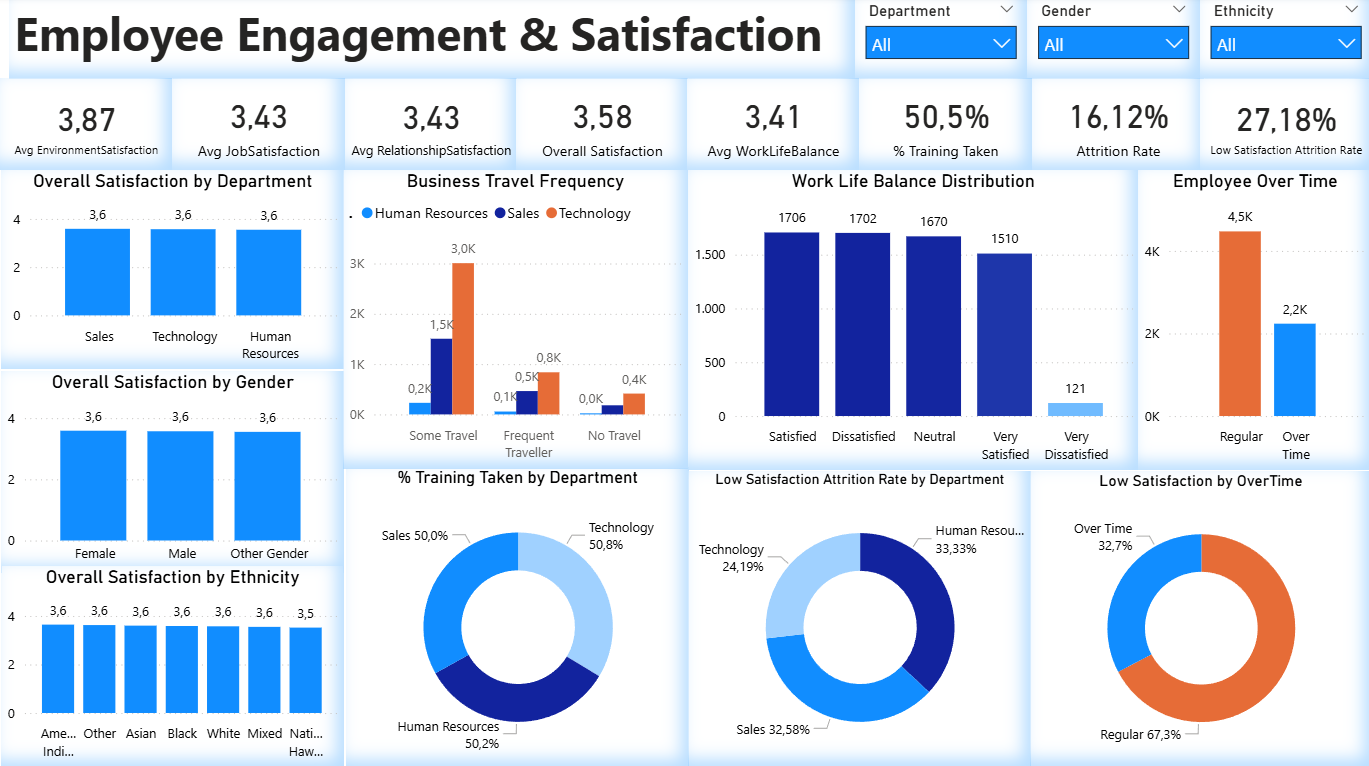

What the dashboard file says about the page in this screenshot:
{"tool":"powerbi","page":{"name":"Page 1","canvas":[1280,720],"ordinal":0},"visuals":[{"type":"textbox","box":[9.1,0,788.9,77.2],"z":0},{"type":"card","fields":{"Values":["Avg(PerformanceRating.EnvironmentSatisfaction)"]},"box":[0,77.5,160.6,85],"z":1000},{"type":"card","fields":{"Values":["Avg(PerformanceRating.JobSatisfaction)"]},"box":[160.6,77.5,160.6,85],"z":2000},{"type":"card","fields":{"Values":["Avg(PerformanceRating.RelationshipSatisfaction)"]},"box":[321.3,77.5,160.6,85],"z":3000},{"type":"card","fields":{"Values":["PerformanceRating.Overall Satisfaction"]},"box":[481.9,77.5,160.6,85],"z":4000},{"type":"slicer","fields":{"Values":["Employee.Department"]},"box":[798,0,160.5,77.2],"z":5000},{"type":"slicer","fields":{"Values":["Employee.Gender"]},"box":[958.5,0,160.5,77.2],"z":6000},{"type":"slicer","fields":{"Values":["Employee.Ethnicity"]},"box":[1119,0,160.5,77.2],"z":7000},{"type":"clusteredColumnChart","fields":{"Category":["Employee.Department"],"Y":["PerformanceRating.Overall Satisfaction"]},"box":[1.5,162,319.5,186.2],"z":8000},{"type":"clusteredColumnChart","fields":{"Y":["PerformanceRating.Overall Satisfaction"],"Category":["Employee.Gender"]},"box":[1.5,349.8,319.5,187.8],"z":9000},{"type":"clusteredColumnChart","fields":{"Category":["Employee.Ethnicity"],"Y":["PerformanceRating.Overall Satisfaction"]},"box":[1.5,531.5,319.5,187.8],"z":10000},{"type":"clusteredColumnChart","title":"Work Life Balance Distribution","fields":{"Category":["PerformanceRating.SegWorkLifeBalance"],"Y":["CountNonNull(PerformanceRating.EmployeeID)"]},"box":[642,162,419.4,280.1],"z":11000},{"type":"card","fields":{"Values":["Avg(PerformanceRating.WorkLifeBalance)"]},"box":[640.6,77.5,160.6,85],"z":12000},{"type":"donutChart","fields":{"Category":["Employee.Department"],"Y":["PerformanceRating.% Training Taken"]},"box":[322.5,439.1,319.5,280.1],"z":13000},{"type":"card","fields":{"Values":["PerformanceRating.% Training Taken"]},"box":[801.3,77.5,160.6,85],"z":14000},{"type":"card","fields":{"Values":["Employee.Attrition Rate"]},"box":[961.9,77.5,160.6,85],"z":15000},{"type":"donutChart","title":"Low Satisfaction Attrition Rate by Department","fields":{"Y":["Employee.Low Satisfication Attrition Rate"],"Category":["Employee.Department"]},"box":[642,443.7,319.5,275.6],"z":16000},{"type":"card","fields":{"Values":["Employee.Low Satisfication Attrition Rate"]},"box":[1118.7,77.5,160.6,85],"z":17000},{"type":"clusteredColumnChart","title":"Business Travel Frequency","fields":{"Category":["Employee.BusinessTravel"],"Series":["Employee.Department"],"Y":["CountNonNull(PerformanceRating.EmployeeID)"]},"box":[321,162,321,278.6],"z":18000},{"type":"clusteredColumnChart","title":"Employee Over Time","fields":{"Category":["Employee.OverTime"],"Y":["CountNonNull(PerformanceRating.EmployeeID)"]},"box":[1061.5,162,218,280.1],"z":19000},{"type":"donutChart","fields":{"Category":["Employee.OverTime"],"Y":["PerformanceRating.Low Satisfaction"]},"box":[961.5,443.7,318,275.6],"z":20000}]}

Visuals, with their boxes in screenshot pixels (x1, y1, x2, y2), scaled from the page's 1280x720 canvas onto the 1369x766 screenshot:
textbox: Rect(10, 0, 853, 82)
card - Avg(PerformanceRating.EnvironmentSatisfaction): Rect(0, 82, 172, 173)
card - Avg(PerformanceRating.JobSatisfaction): Rect(172, 82, 344, 173)
card - Avg(PerformanceRating.RelationshipSatisfaction): Rect(344, 82, 515, 173)
card - PerformanceRating.Overall Satisfaction: Rect(515, 82, 687, 173)
slicer - Employee.Department: Rect(853, 0, 1025, 82)
slicer - Employee.Gender: Rect(1025, 0, 1197, 82)
slicer - Employee.Ethnicity: Rect(1197, 0, 1368, 82)
clusteredColumnChart - Employee.Department x PerformanceRating.Overall Satisfaction: Rect(2, 172, 343, 370)
clusteredColumnChart - PerformanceRating.Overall Satisfaction x Employee.Gender: Rect(2, 372, 343, 572)
clusteredColumnChart - Employee.Ethnicity x PerformanceRating.Overall Satisfaction: Rect(2, 565, 343, 765)
"Work Life Balance Distribution" clusteredColumnChart: Rect(687, 172, 1135, 470)
card - Avg(PerformanceRating.WorkLifeBalance): Rect(685, 82, 857, 173)
donutChart - Employee.Department x PerformanceRating.% Training Taken: Rect(345, 467, 687, 765)
card - PerformanceRating.% Training Taken: Rect(857, 82, 1029, 173)
card - Employee.Attrition Rate: Rect(1029, 82, 1201, 173)
"Low Satisfaction Attrition Rate by Department" donutChart: Rect(687, 472, 1028, 765)
card - Employee.Low Satisfication Attrition Rate: Rect(1196, 82, 1368, 173)
"Business Travel Frequency" clusteredColumnChart: Rect(343, 172, 687, 469)
"Employee Over Time" clusteredColumnChart: Rect(1135, 172, 1368, 470)
donutChart - Employee.OverTime x PerformanceRating.Low Satisfaction: Rect(1028, 472, 1368, 765)
